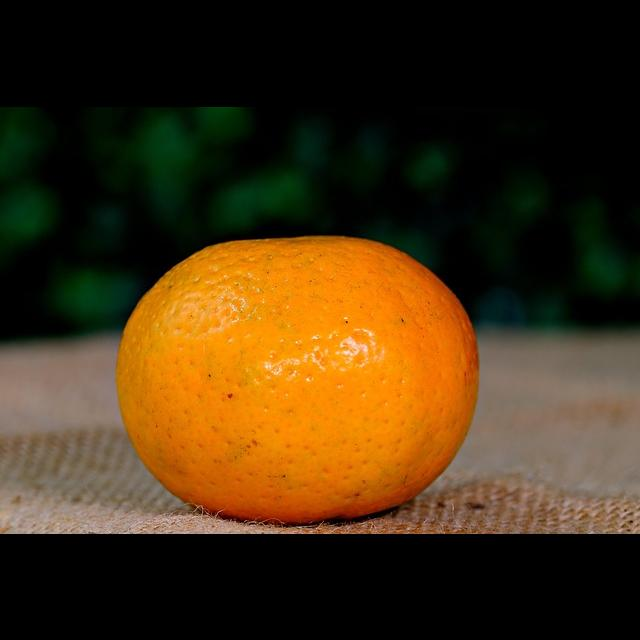orange: (94, 217, 509, 532)
